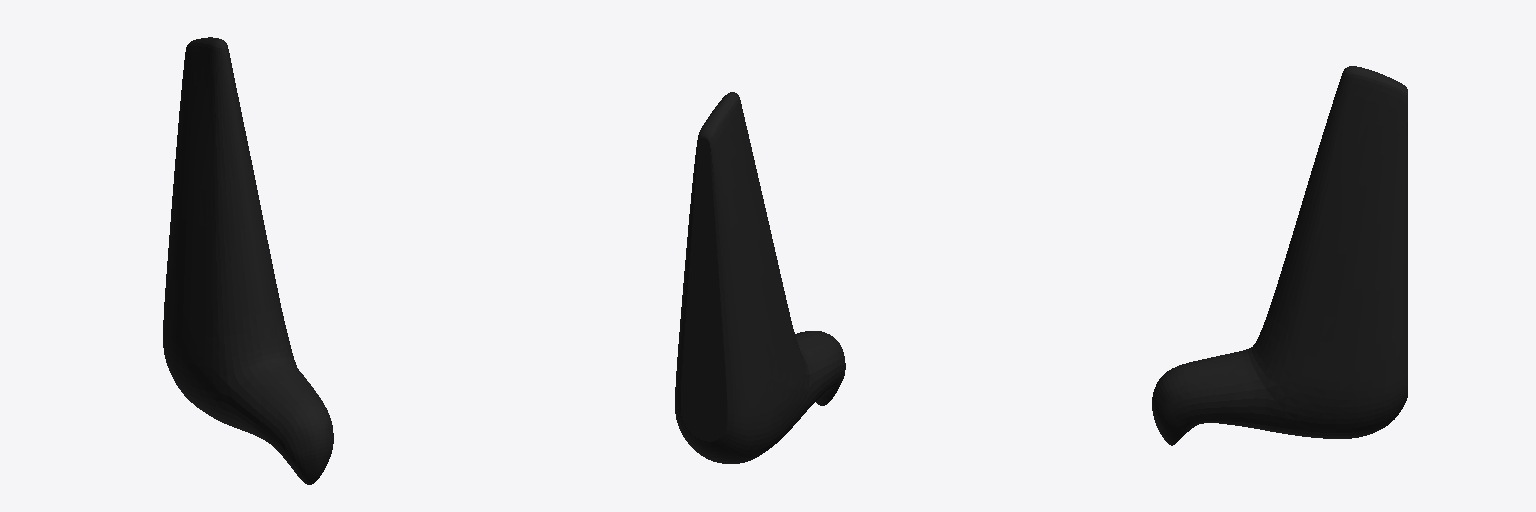
The model's file is Vitra_LOiseau_mat(2).obj.
3 views of the same model, side by side, from view 1: azimuth 30°, elevation 25°; view 2: azimuth 150°, elevation 25°; view 3: azimuth 270°, elevation 25° (orthographic).
Visible parts, largest first — view 1: Vitra_LOiseau_mat2; view 2: Vitra_LOiseau_mat2; view 3: Vitra_LOiseau_mat2.
Part boxes in pixels (x1,y1,x2,y2): Vitra_LOiseau_mat2: (163,37,333,484); Vitra_LOiseau_mat2: (675,92,845,463); Vitra_LOiseau_mat2: (1152,66,1407,445).
Size of the model in its own units: 6 by 24.5 by 15.